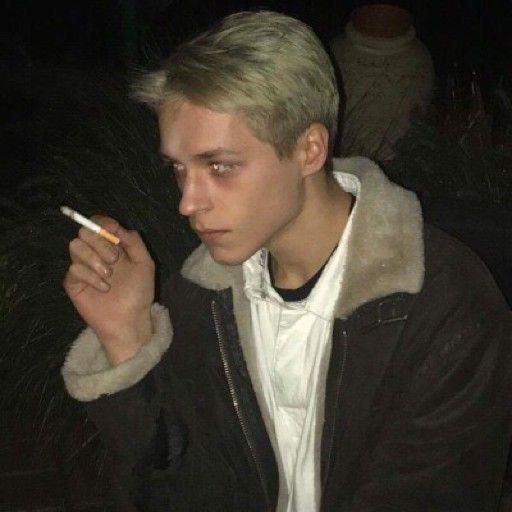cigarette: (60, 207, 120, 244)
